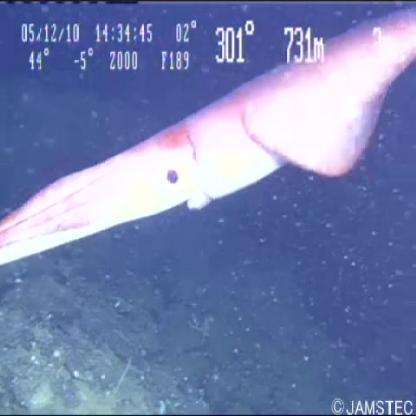Bio: (1, 4, 416, 268)
